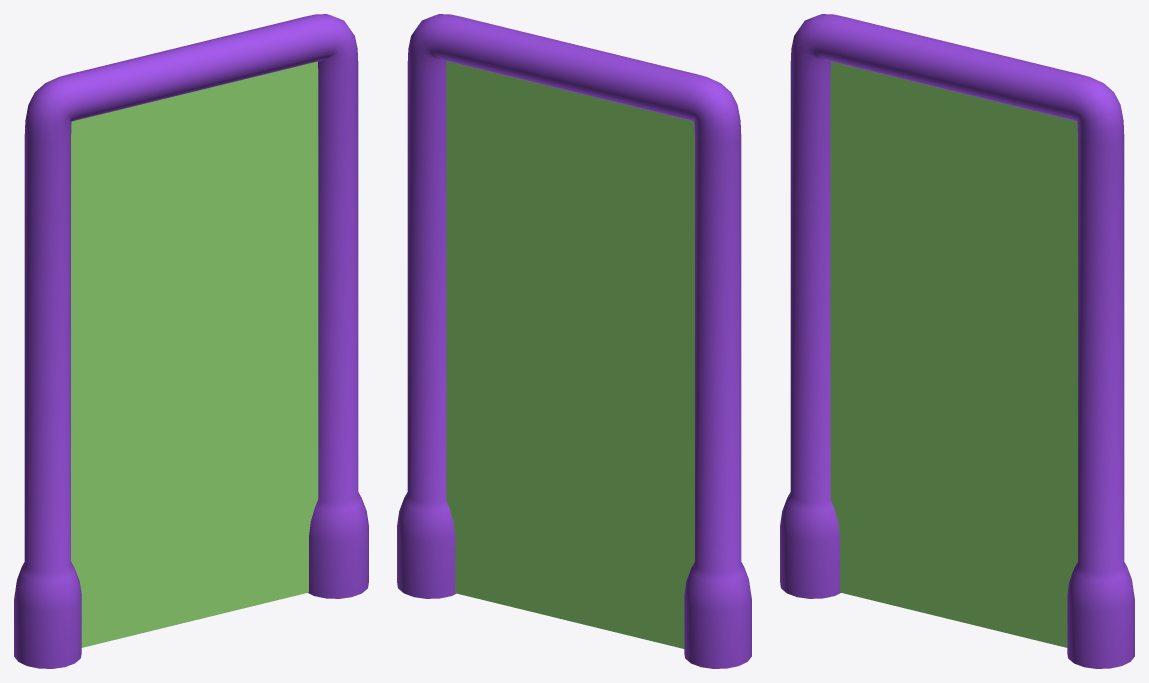
The model's file is Doors_Purple_1.fbx.
3 renders of one model, left to right at view 1: azimuth 30°, elevation 25°; view 2: azimuth 150°, elevation 25°; view 3: azimuth 330°, elevation 25°, orthographic.
Parts seen in each view (by area): view 1: Plane 1, Doors Framework; view 2: Plane 2, Doors Framework; view 3: Plane 1, Doors Framework.
Boxes of the visible parts, box(x1,y1,x2,y2) form: Plane 1: box(71, 61, 318, 647); Doors Framework: box(14, 14, 368, 668); Plane 2: box(446, 61, 694, 648); Doors Framework: box(397, 14, 751, 668); Plane 1: box(830, 61, 1077, 647); Doors Framework: box(780, 14, 1134, 668).
Size of the model in its own units: 135 by 213 by 23.01.
2 materials, 2 textured.
